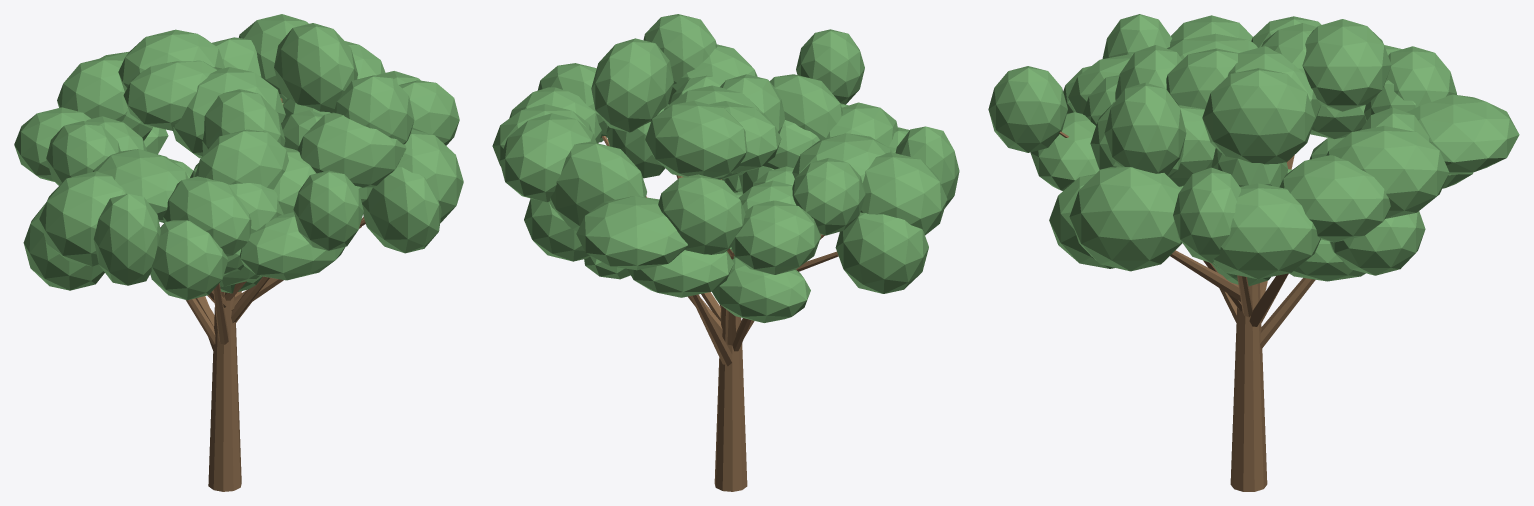
The model's file is tree_round.glb.
3 renders of one model, left to right at view 1: azimuth 30°, elevation 25°; view 2: azimuth 150°, elevation 25°; view 3: azimuth 270°, elevation 25°, orthographic. The views are drawn at different scales.
Visible parts, largest first — view 1: foliage, trunk; view 2: foliage, trunk; view 3: foliage, trunk.
Boxes of the visible parts, x1,y1,x2,y2 form: foliage: (14,14,463,300); trunk: (186,98,365,491); foliage: (492,14,959,322); trunk: (602,136,838,491); foliage: (988,14,1519,286); trunk: (1059,131,1315,491).
Bounding box in the file's own units: 9.53 × 9.49 × 9.84.
